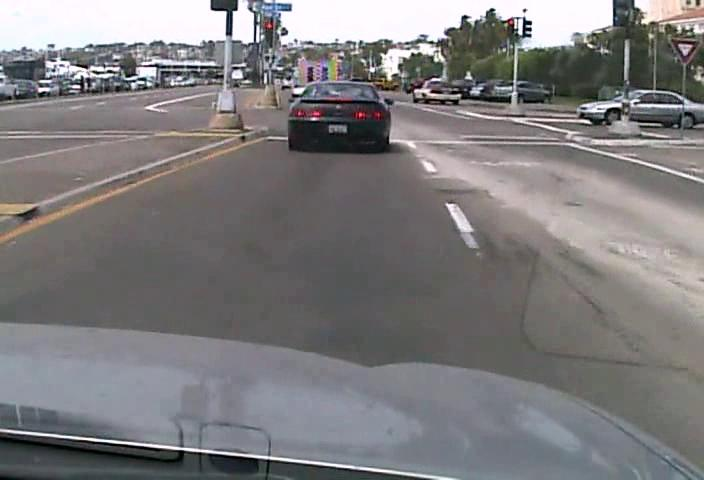yield: (668, 36, 701, 65)
